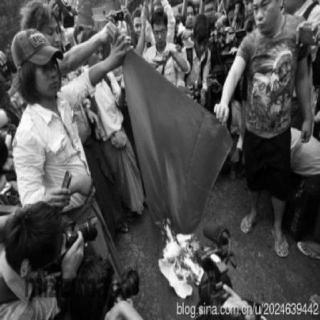other: (118, 41, 220, 225)
